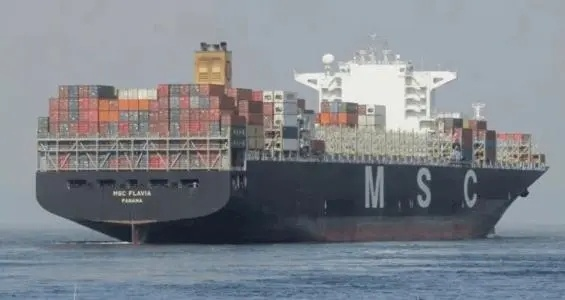Cargoship: (28, 36, 552, 251)
